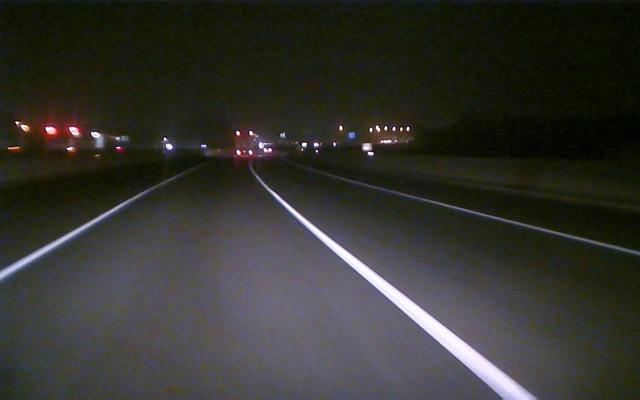lane: (259, 181, 539, 399), (364, 183, 640, 257), (2, 185, 158, 279)
